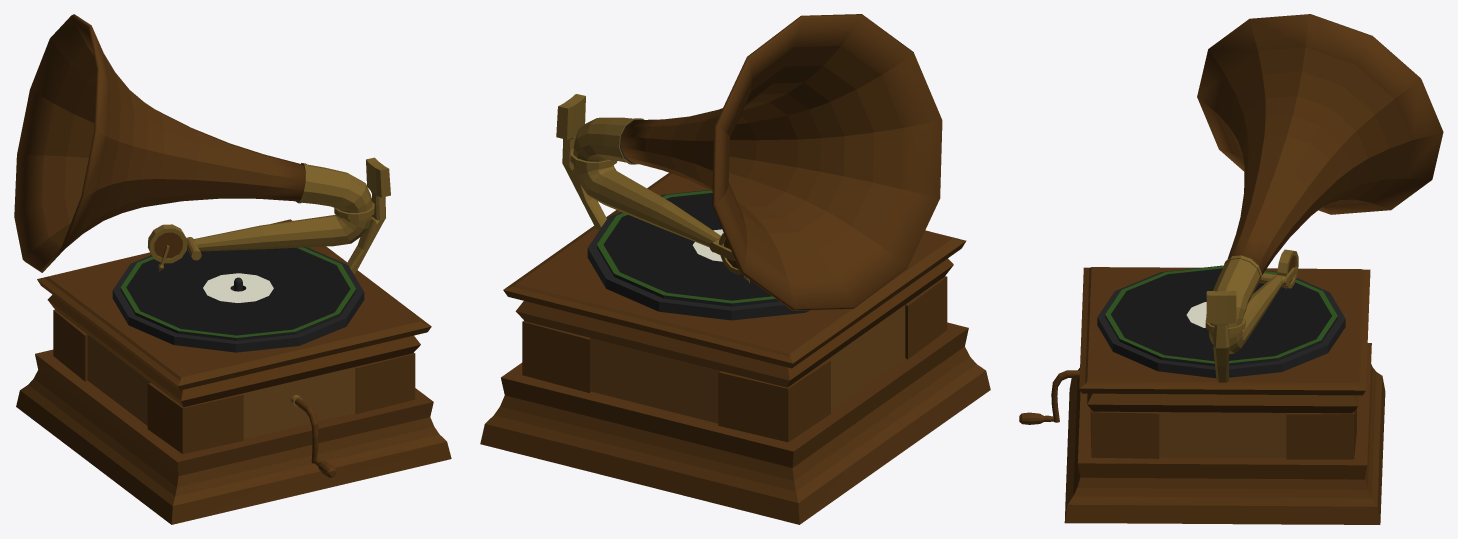
The model's file is gramaphone (4).fbx.
3 views of the same model, side by side, from view 1: azimuth 30°, elevation 25°; view 2: azimuth 150°, elevation 25°; view 3: azimuth 270°, elevation 25° (orthographic). The views are drawn at different scales.
Visible parts, largest first — view 1: Plane.009; view 2: Plane.009; view 3: Plane.009.
Part boxes in pixels (box(x1,y1,x2,y2)): Plane.009: box(14, 14, 451, 524); Plane.009: box(480, 14, 990, 524); Plane.009: box(1019, 14, 1443, 524).
Bounding box in the file's own units: 674 × 693 × 584.
